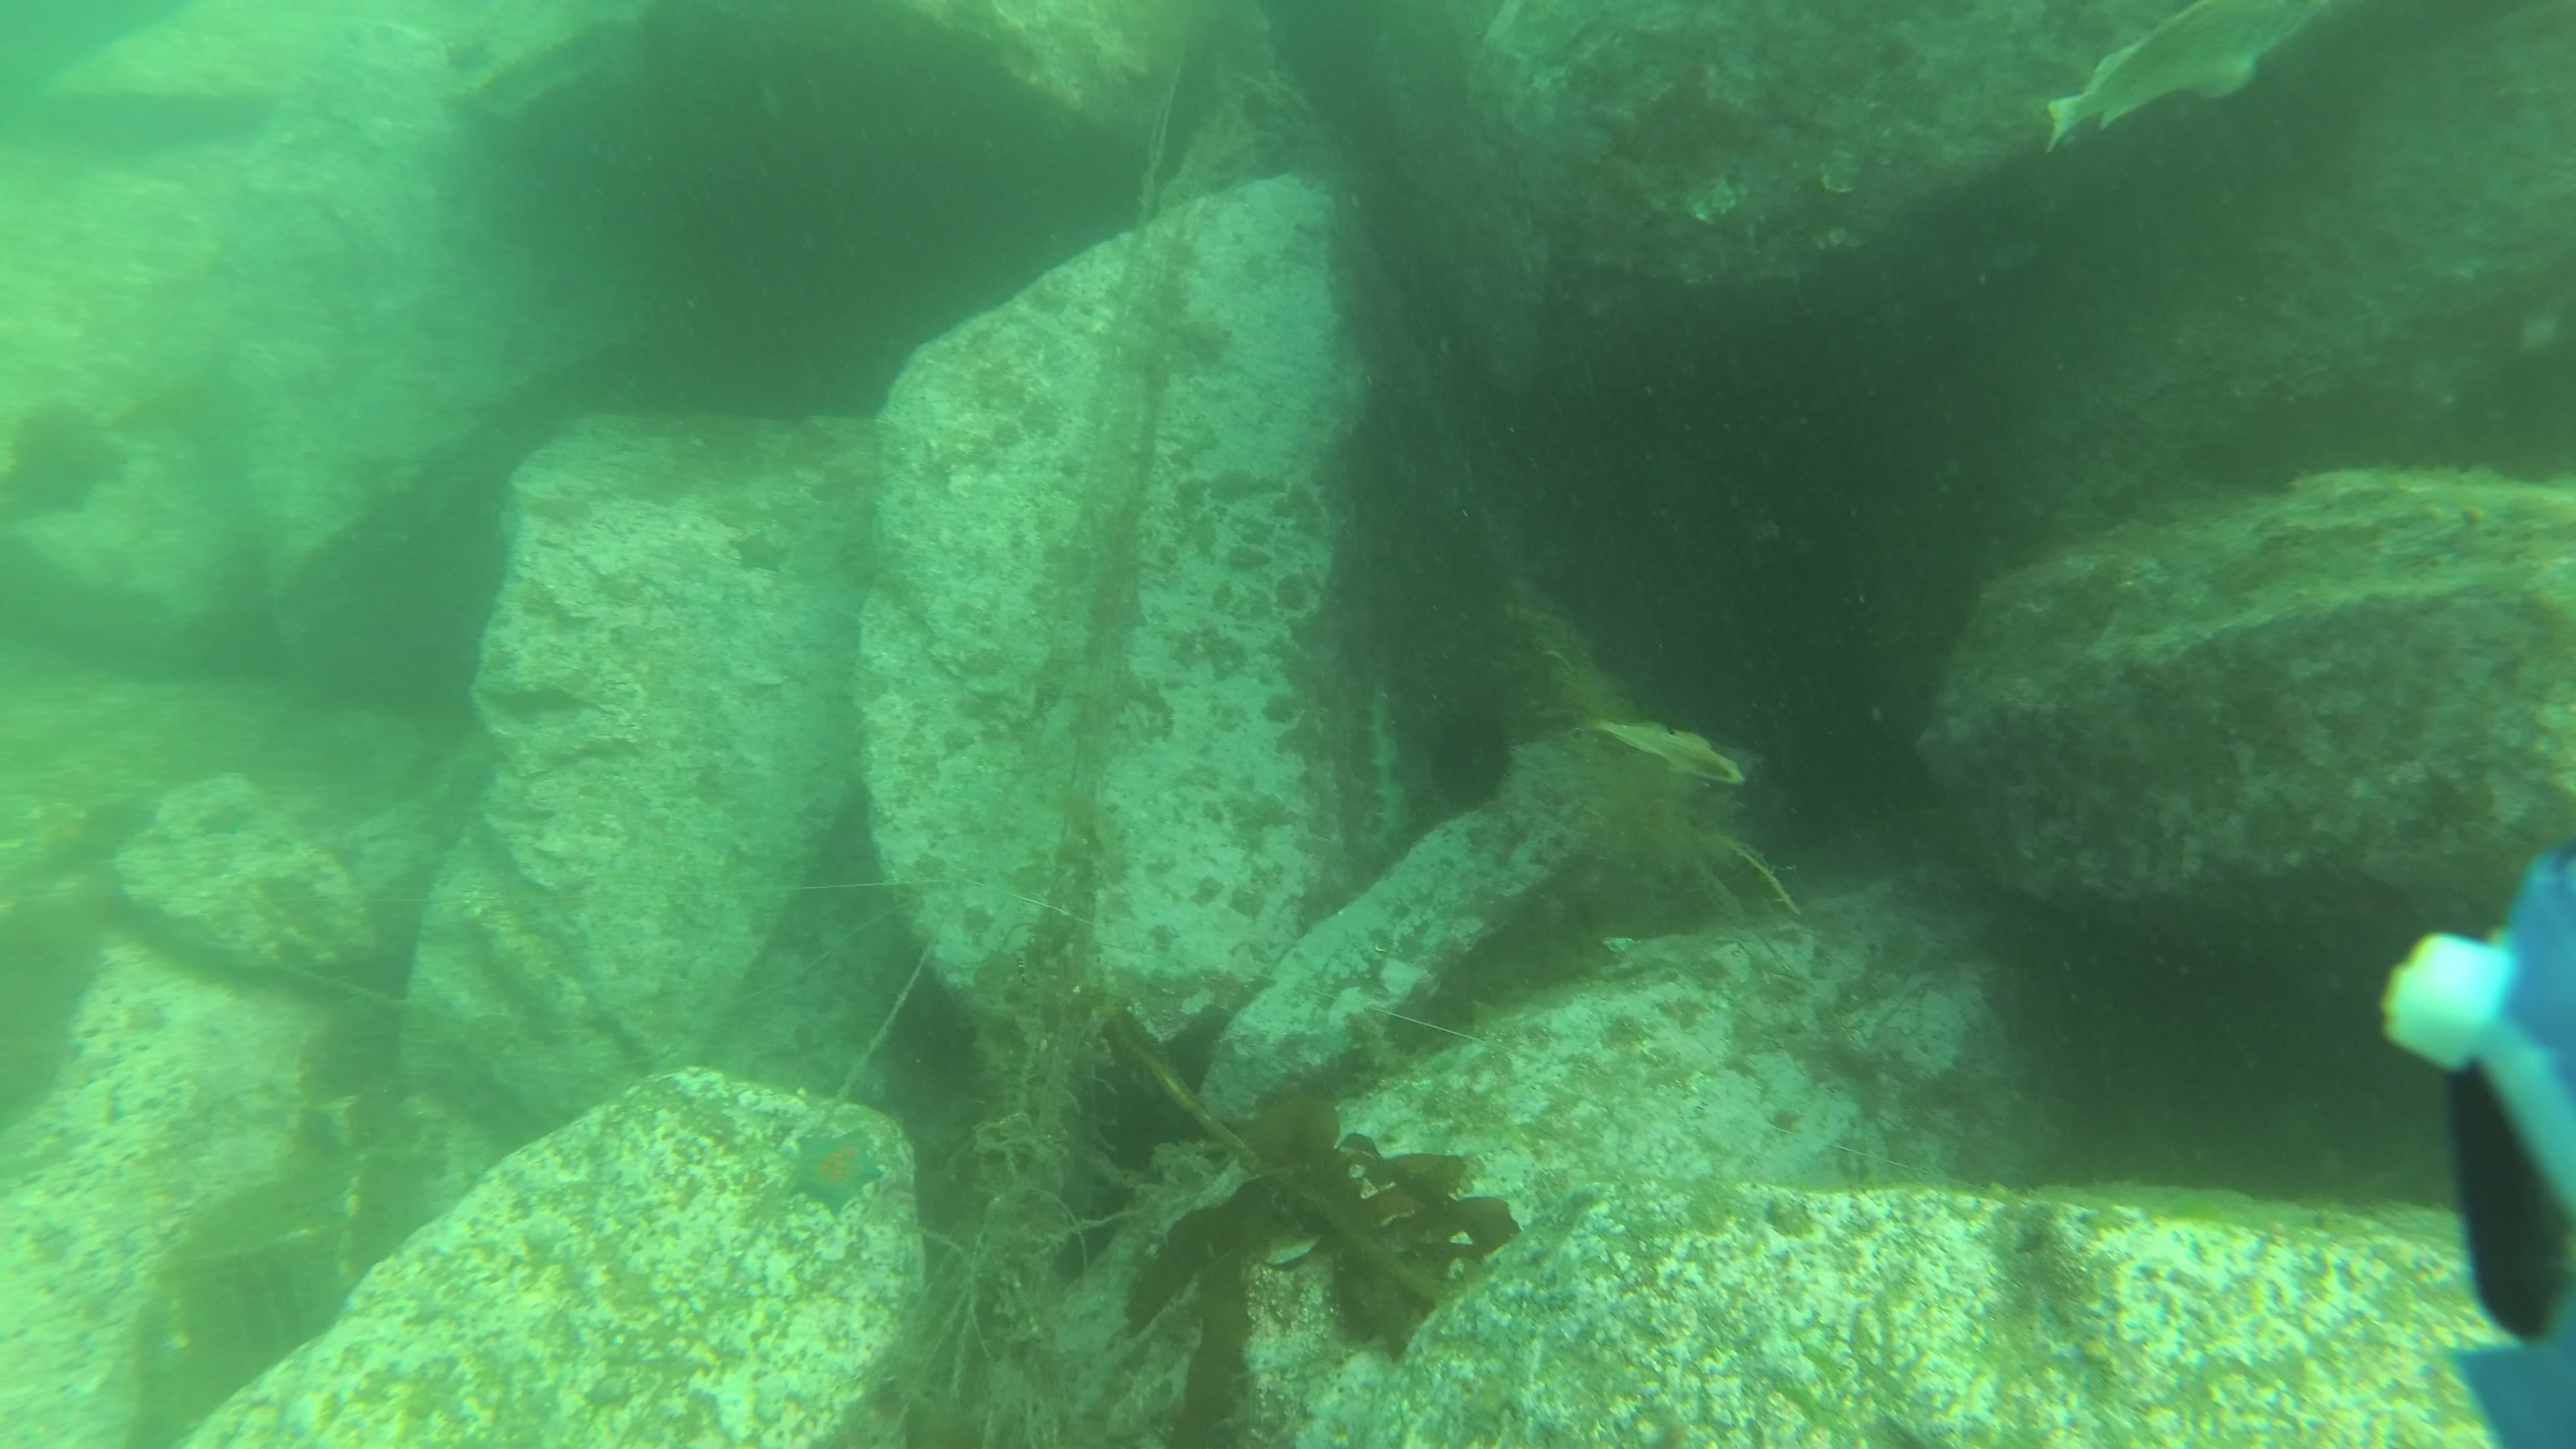echinus: (1417, 702, 1523, 817)
starfish: (786, 1123, 893, 1221), (724, 524, 794, 582)
